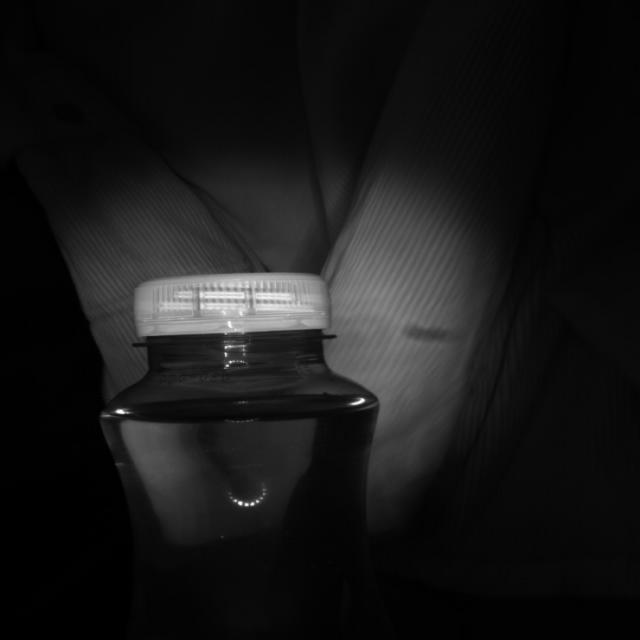Good: (134, 270, 328, 338)
